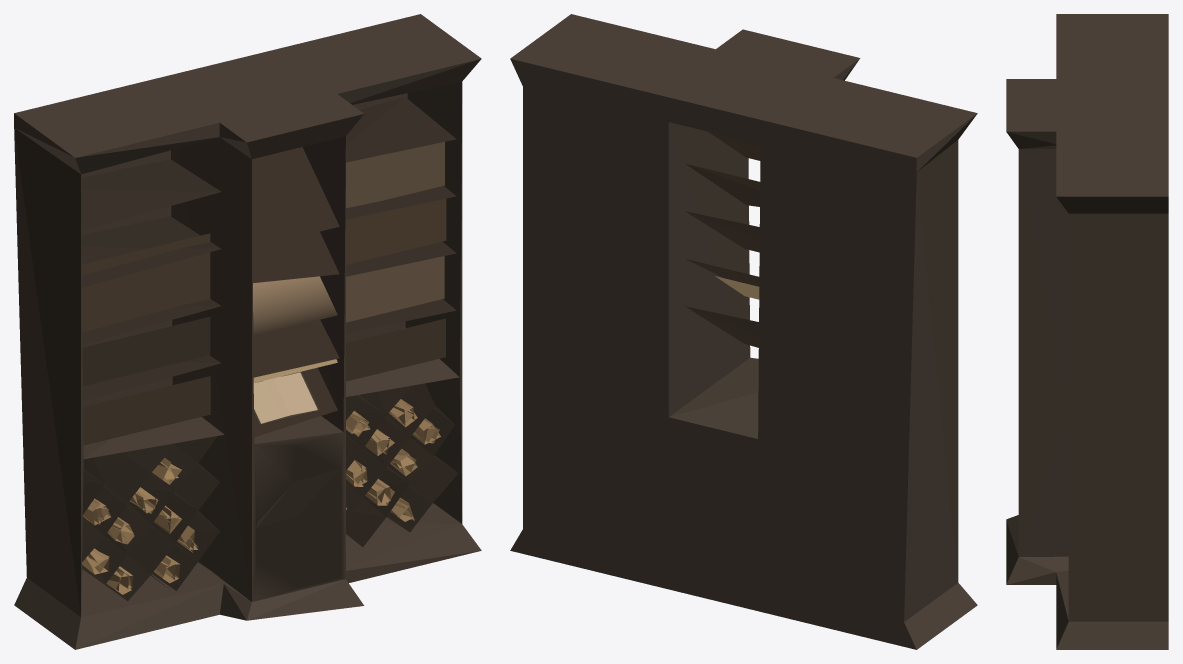
File: bookshelf.lod0.glb
3 renders of one model, left to right at view 1: azimuth 30°, elevation 25°; view 2: azimuth 150°, elevation 25°; view 3: azimuth 270°, elevation 25°, orthographic. The views are drawn at different scales.
Parts seen in each view (by area): view 1: Object_4; view 2: Object_4; view 3: Object_4.
Part boxes in pixels (box(x1,y1,x2,y2)): Object_4: box(14, 14, 481, 649); Object_4: box(510, 14, 977, 649); Object_4: box(1006, 14, 1168, 649).
Bounding box in the file's own units: 1.73 × 2 × 0.65.
